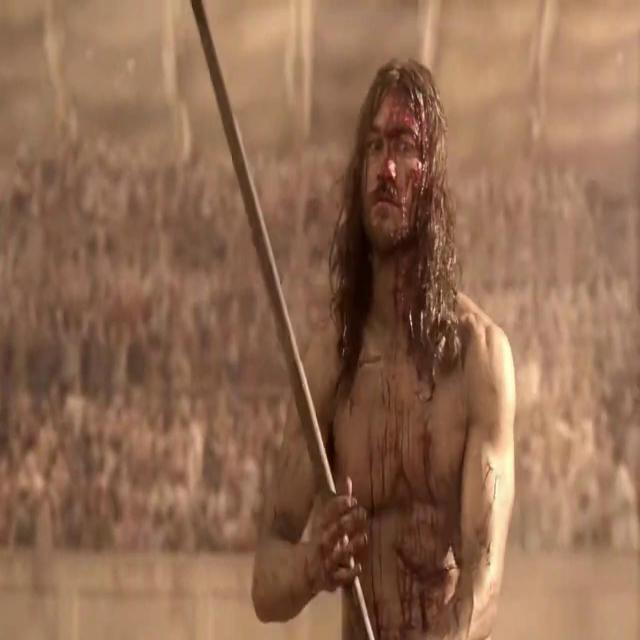flood: (354, 391, 474, 640), (354, 84, 444, 258)
